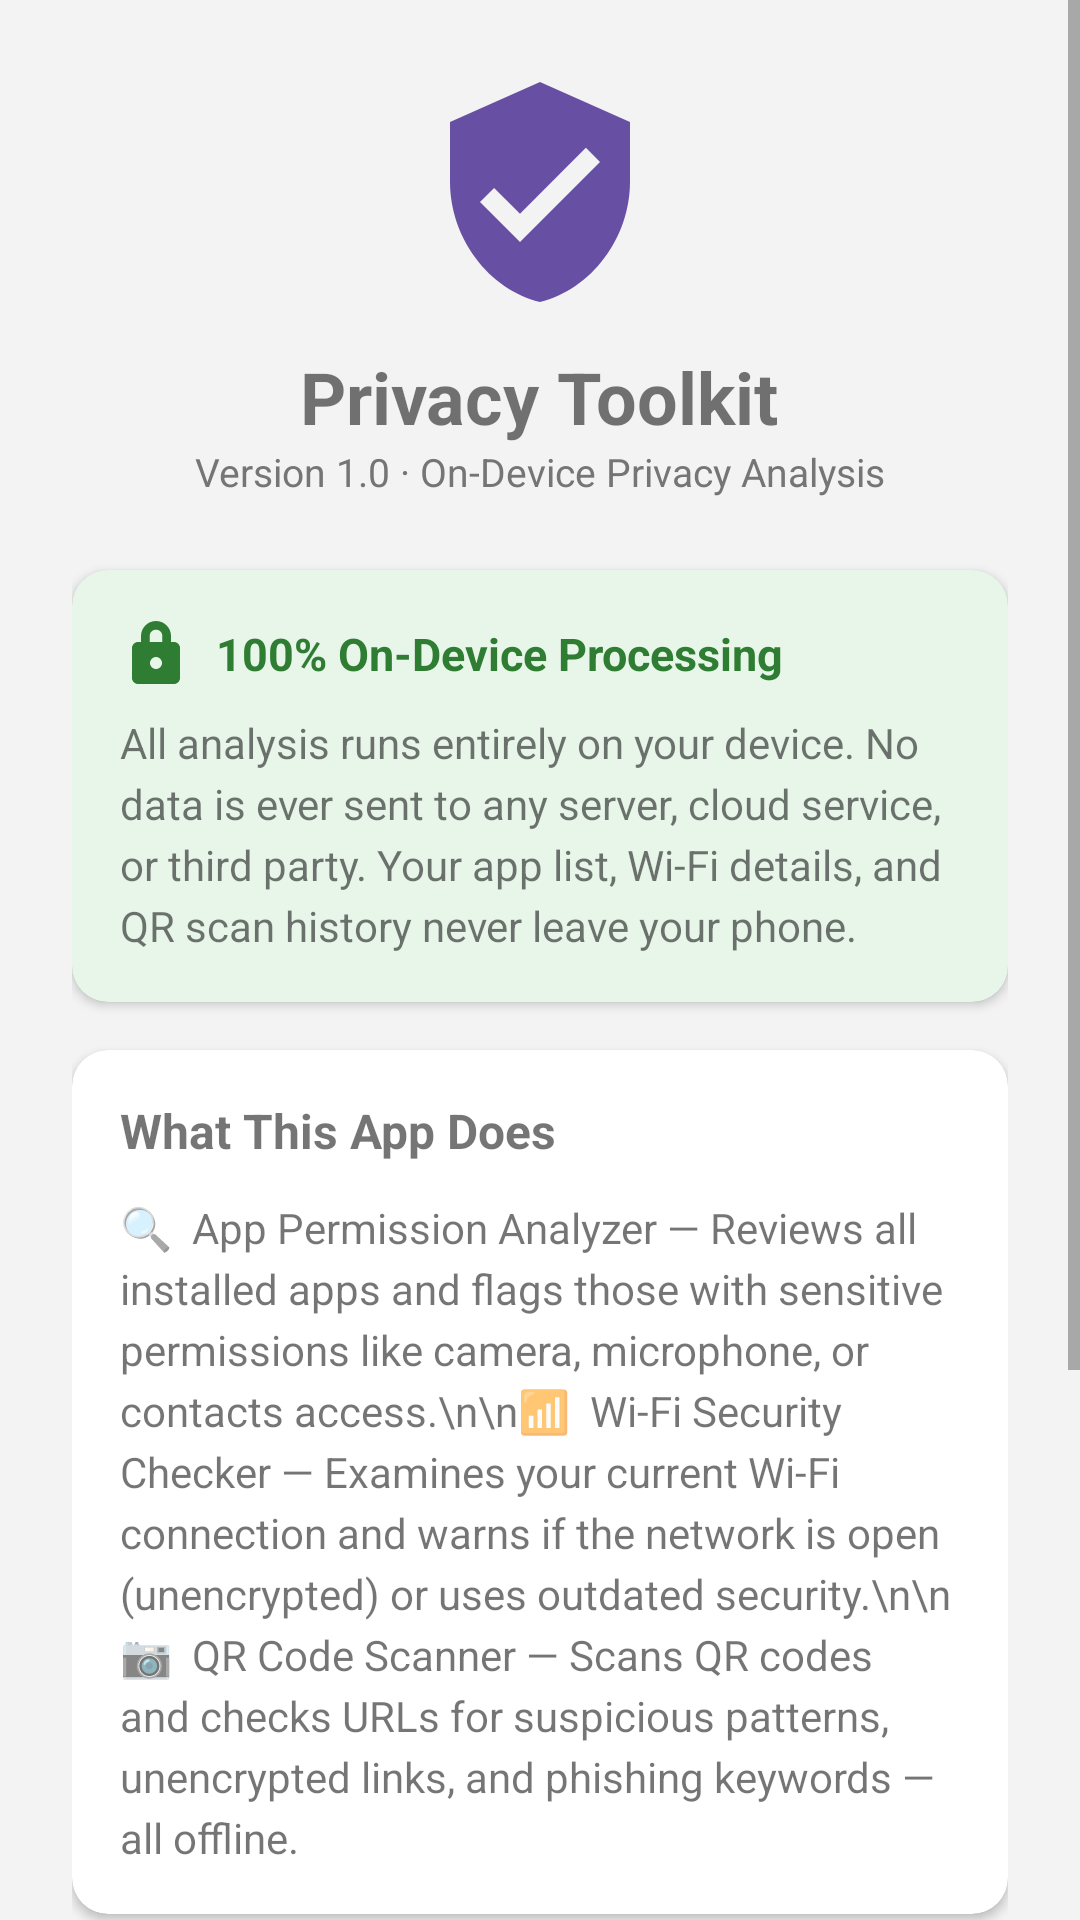

Locate icon controls on the screen. Image size 1080*1920, boxes as (x1, y1, x2, y2).
lock: (132, 621, 180, 684)
shield ok: (450, 82, 630, 302)
